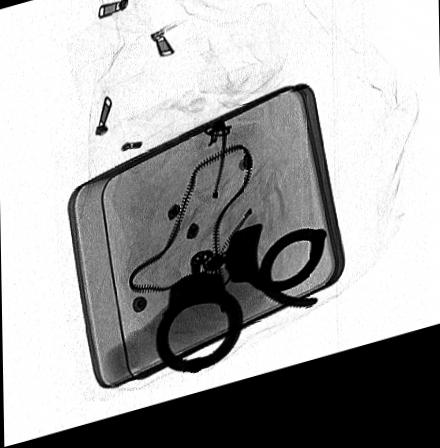HandCuffs: (155, 235, 327, 382)
